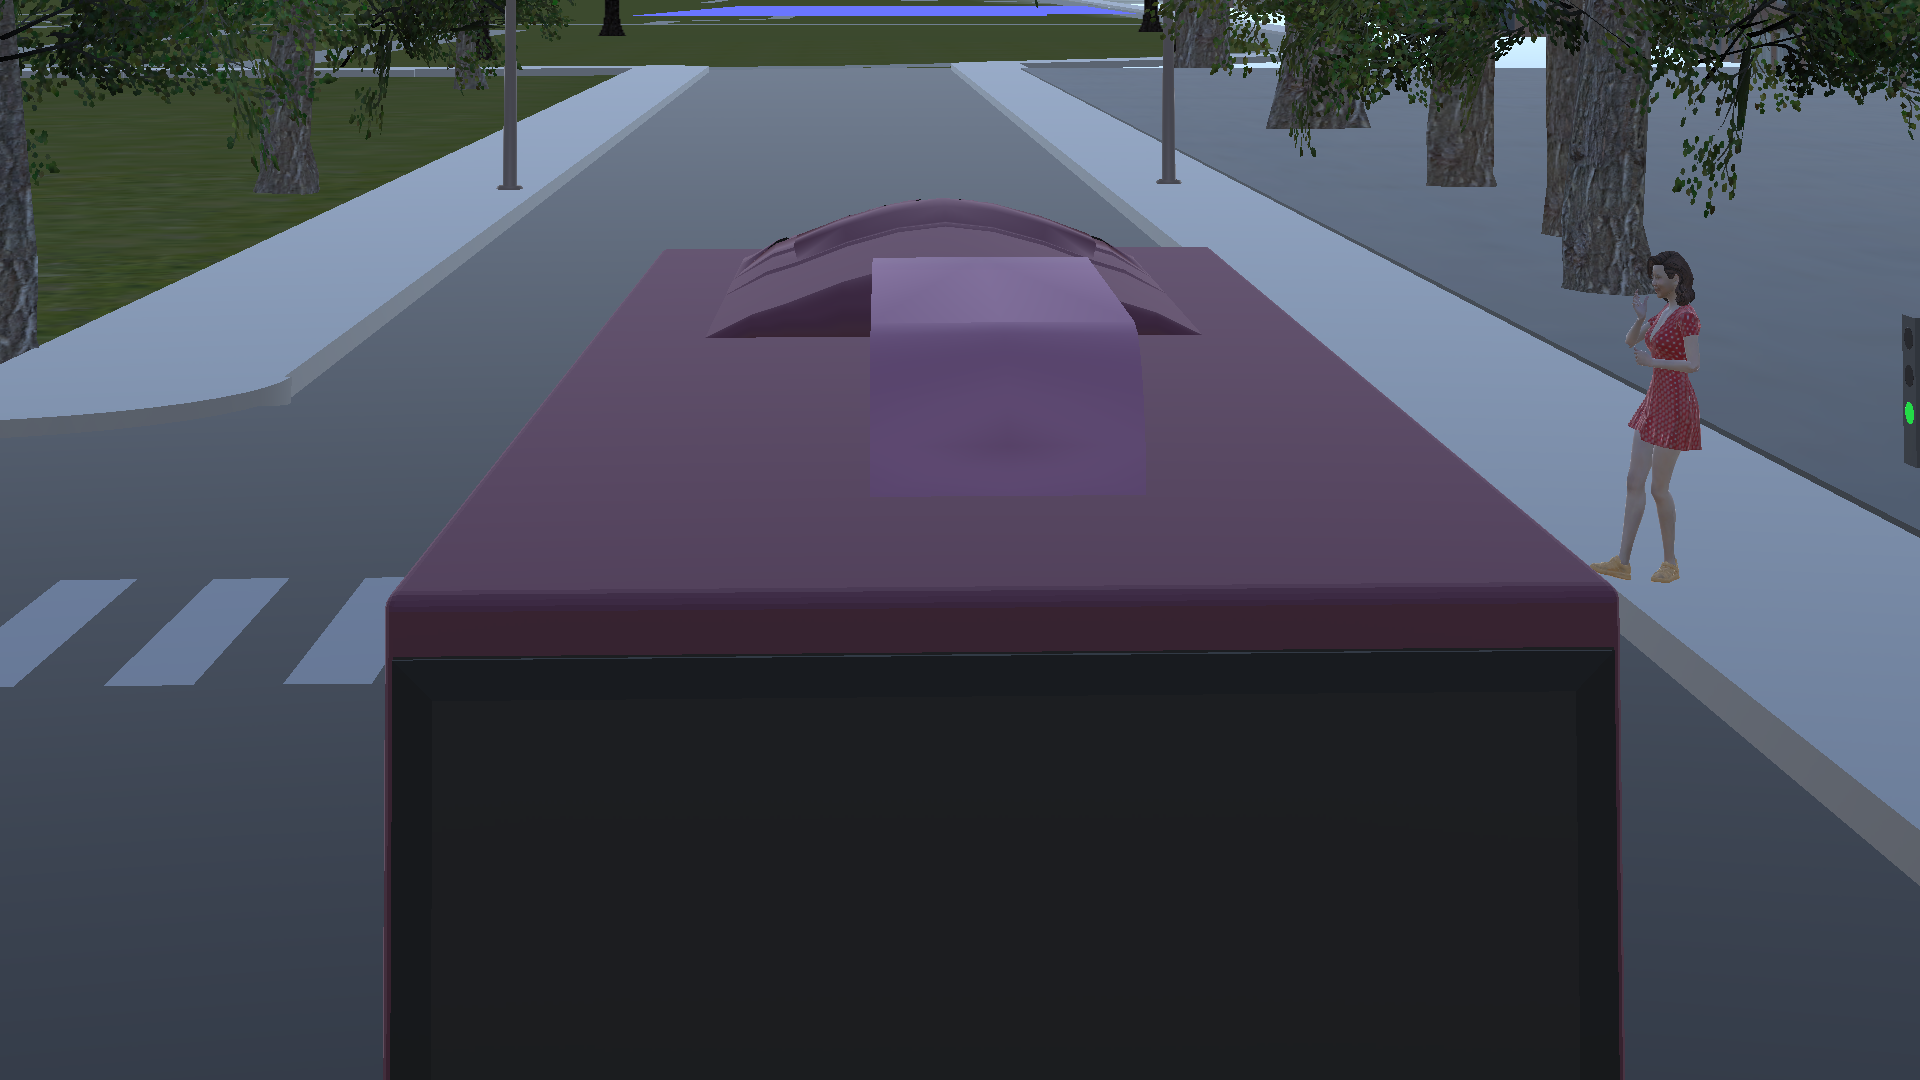pedestrian: (1583, 241, 1710, 603)
